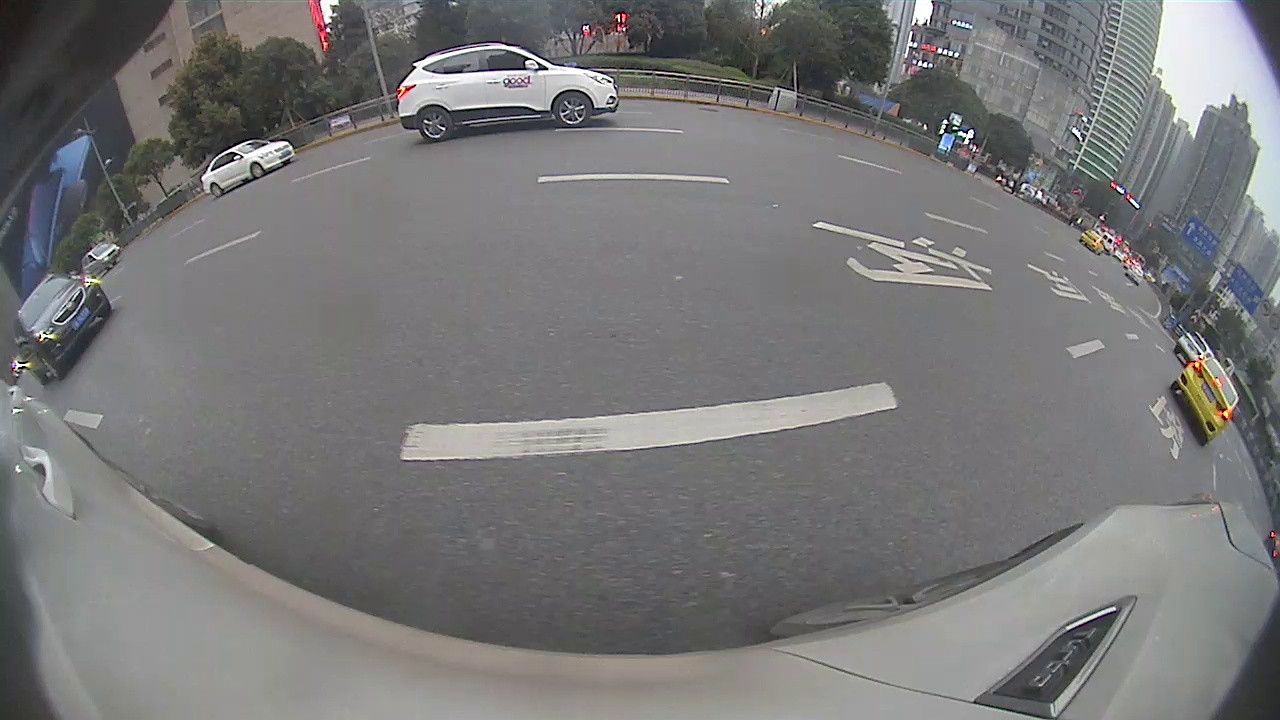car: (394, 40, 620, 143), (13, 271, 112, 384), (1170, 353, 1241, 447), (198, 138, 297, 199), (1173, 328, 1213, 367)
front: (552, 92, 592, 128), (40, 351, 63, 382), (249, 162, 264, 180)
rear: (414, 104, 452, 143), (208, 182, 223, 200)
